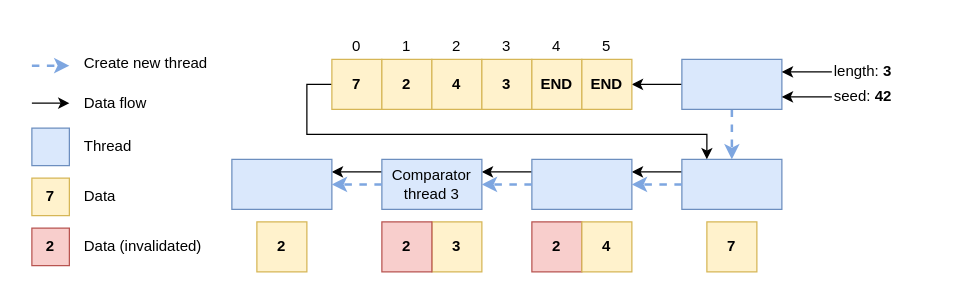
The diagram is 953 pixels wide and 294 high, and some of its shapes have lost their labels. The centre of each missing label's shape, as x and y in pixels:
Comparator thread 1: pixel 731 183
Comparator thread 2: pixel 581 183
Comparator thread 4: pixel 281 183
Generator thread: pixel 731 83
